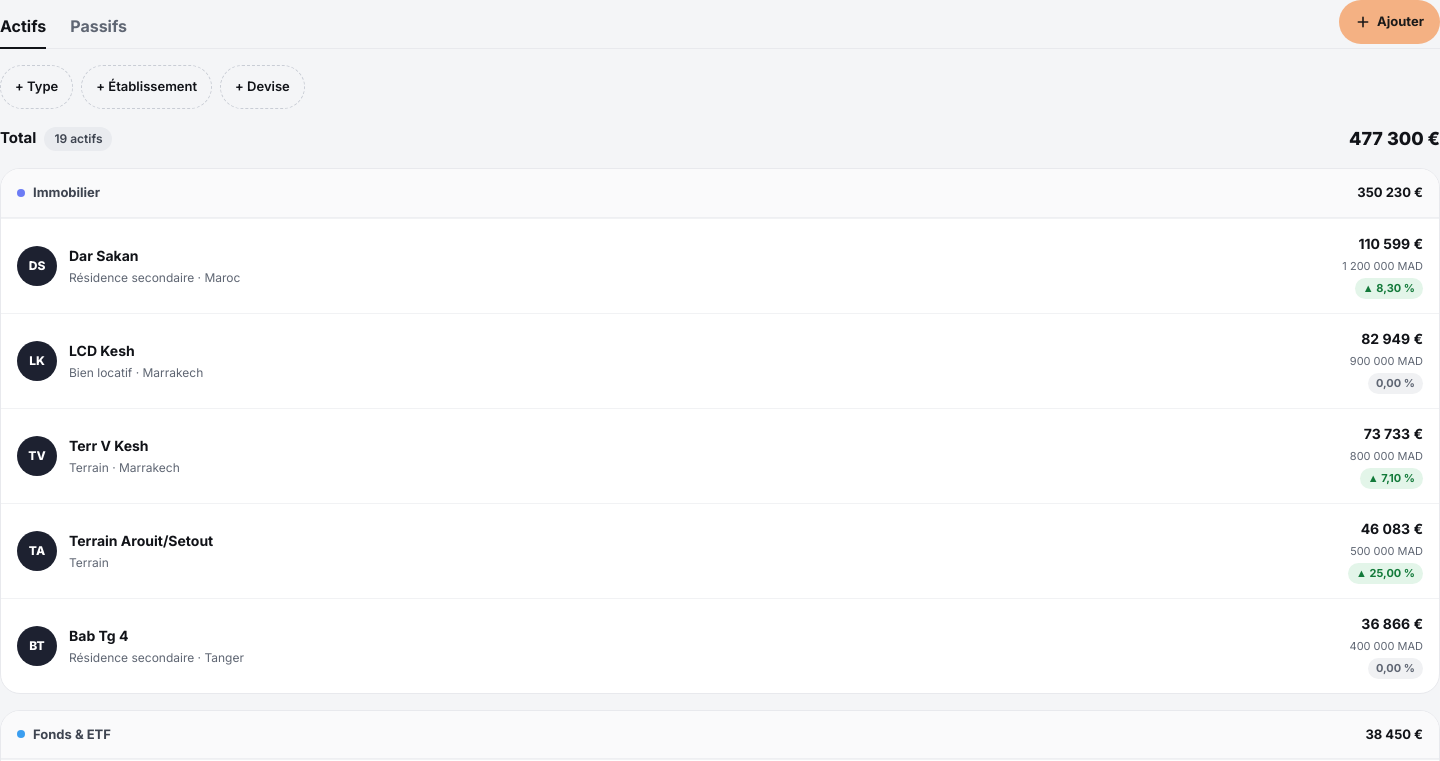
Test: PatrimoineView › l'onglet Passifs affiche le Crédit Dar Sakan sans les filtres
Click the tab "Passifs".
click(99, 27)  # box [70,5,127,49]
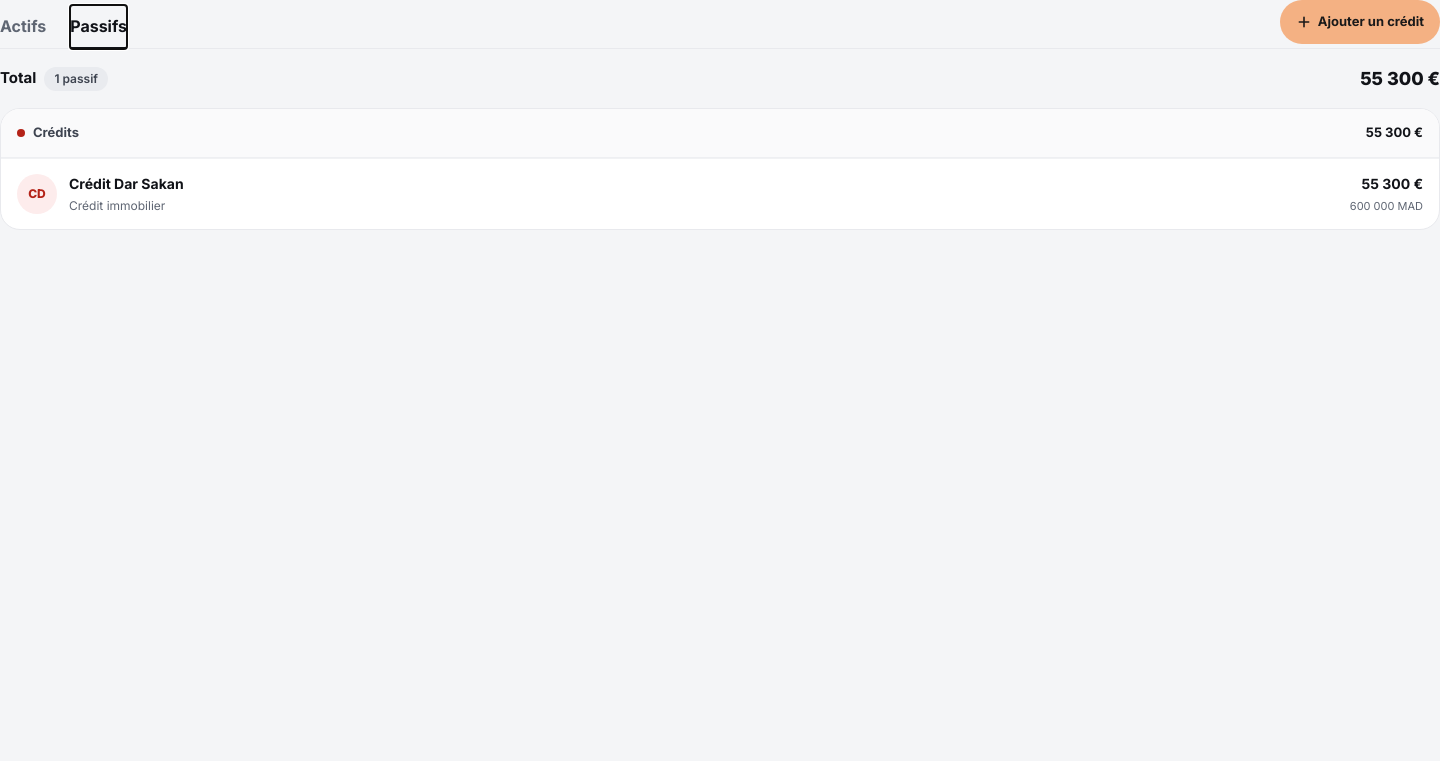
Now the 3rd text "55 300 €" is shown, box [1361,173,1423,194]
Now the text "600 000 MAD" is shown, box [1350,198,1423,214]
Now the text "1 passif" is shown, box [44,66,108,90]
